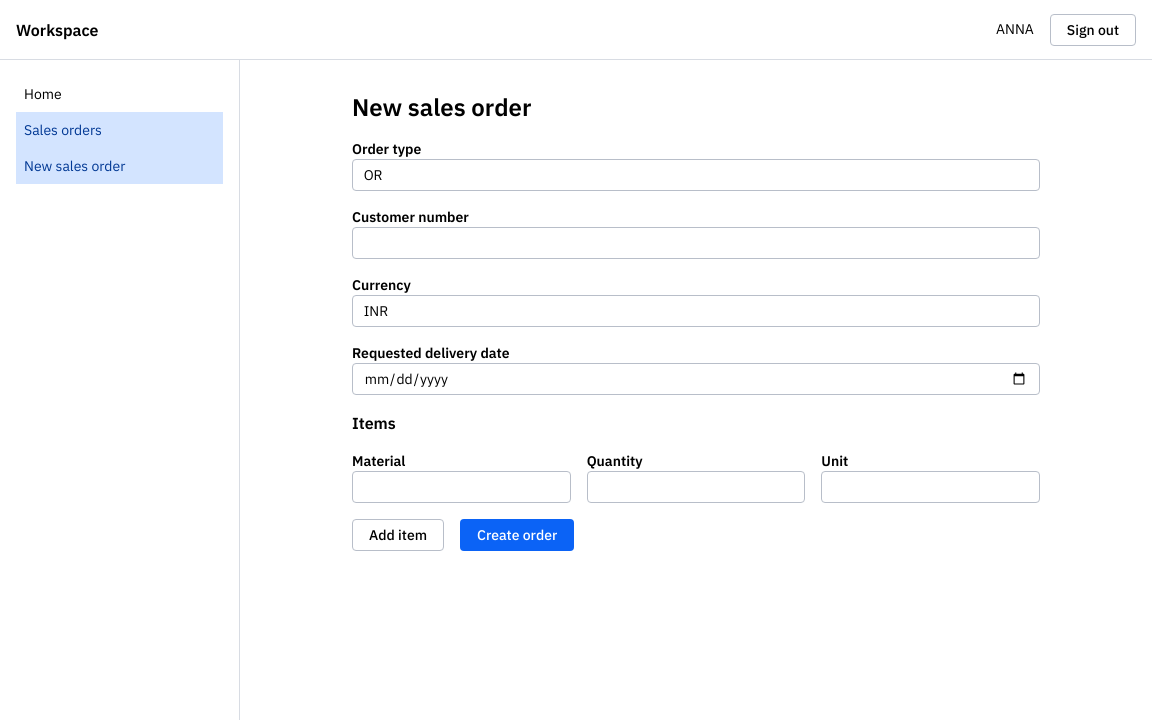
Test: other failures › shows the message and keeps typed values for {"ok":false,"kind":"unavailable"}
Type " 0000100001 " into the field labelled "Customer number". click: coordinates (696, 243)
box: 352,227 -> 1040,259
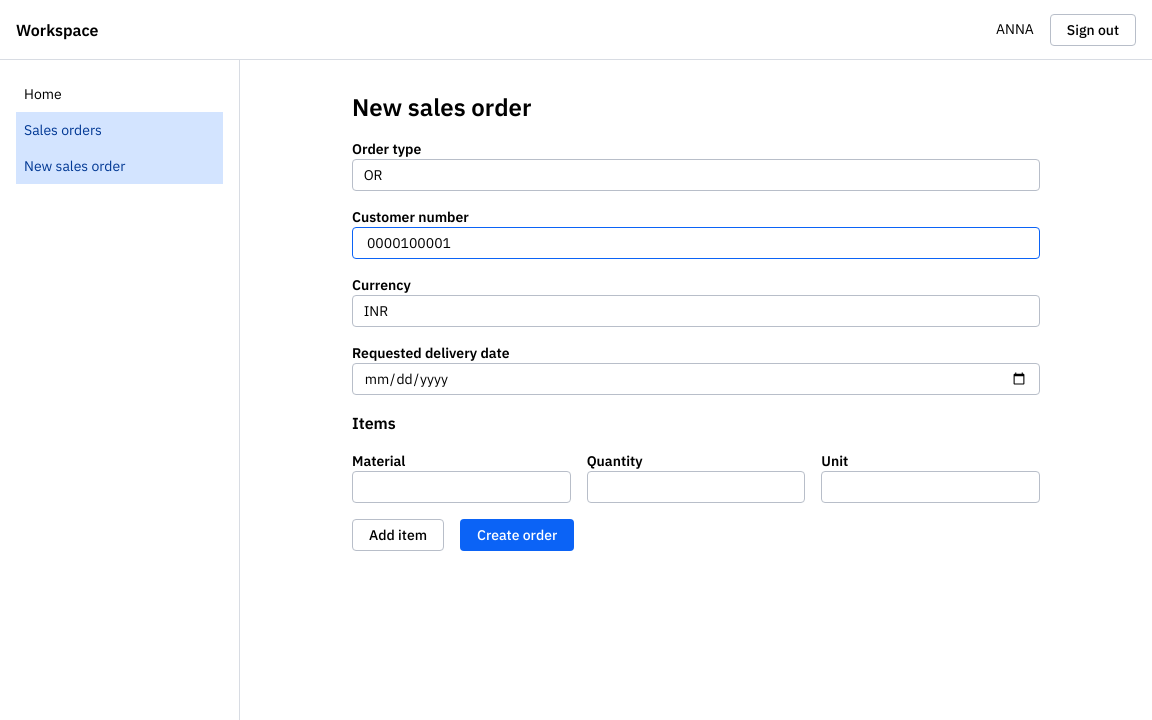
Type "RM-1001" into the field labelled "Material". click: coordinates (461, 487)
box: 352,471 -> 571,503
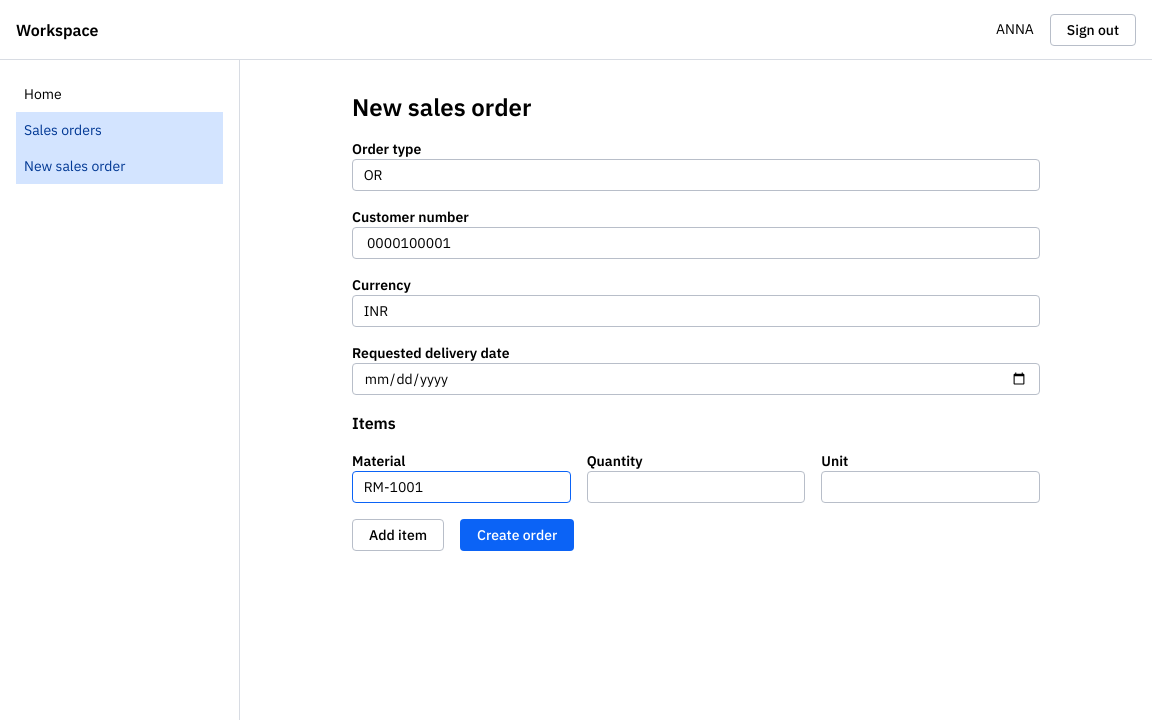
Type "5" into the field labelled "Quantity". click: coordinates (696, 487)
box: 587,471 -> 805,503
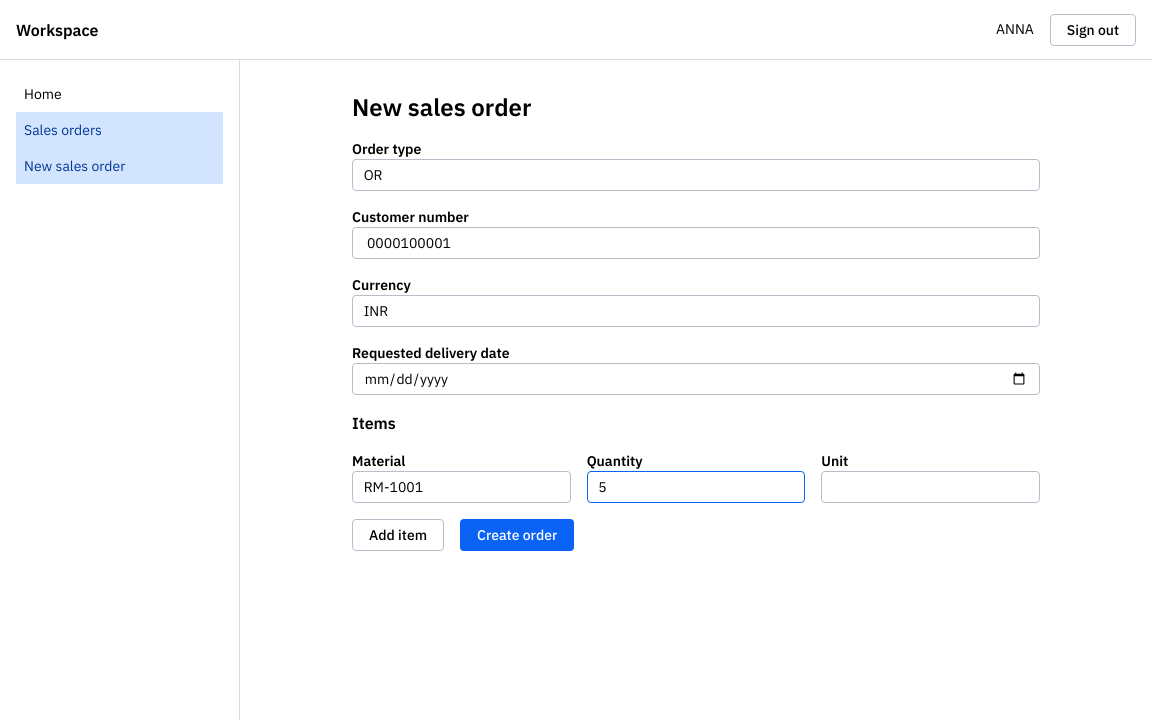
Type "KG" into the field labelled "Unit". click: coordinates (931, 487)
box: 821,471 -> 1040,503
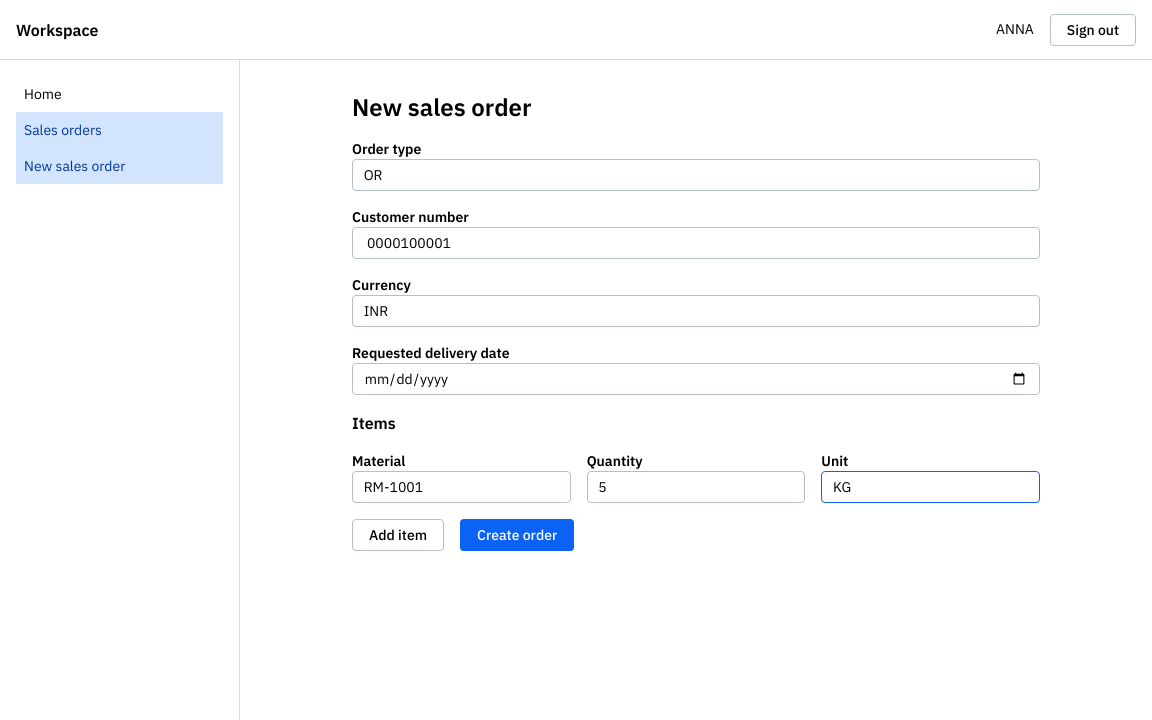
Click the button "Create order". click: coordinates (517, 535)
box: 460,519 -> 574,551
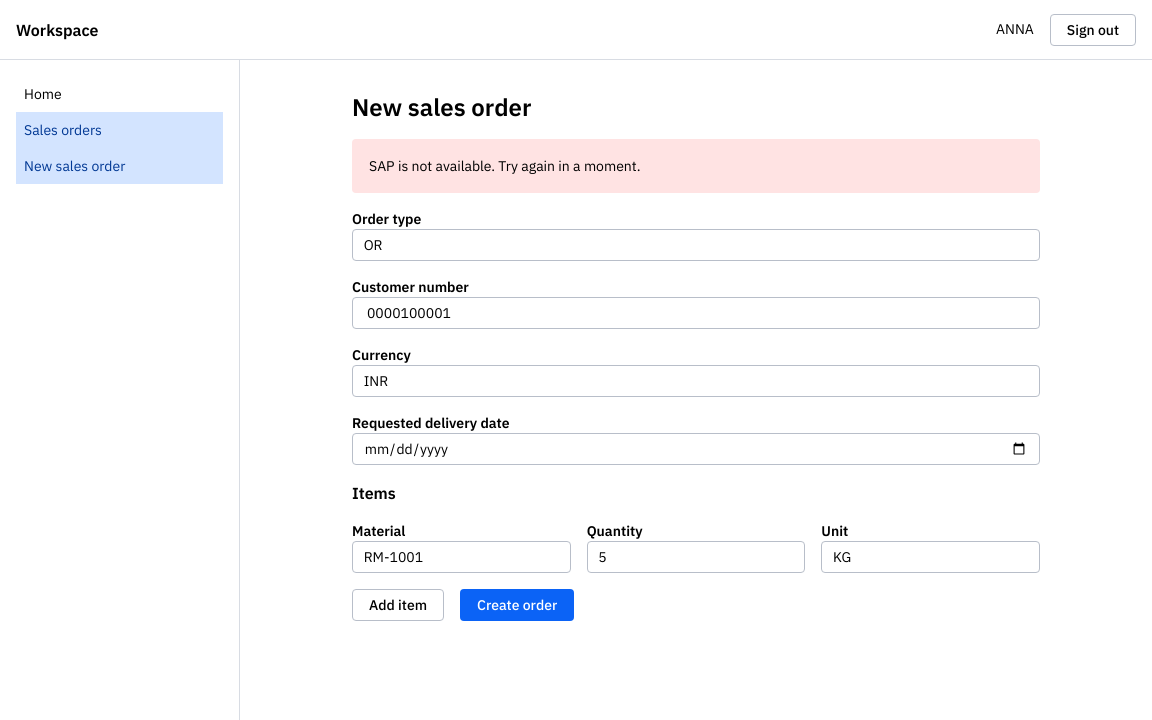
Expected: the text "SAP is not available. Try again in a moment." is shown, 369,157 -> 640,175
